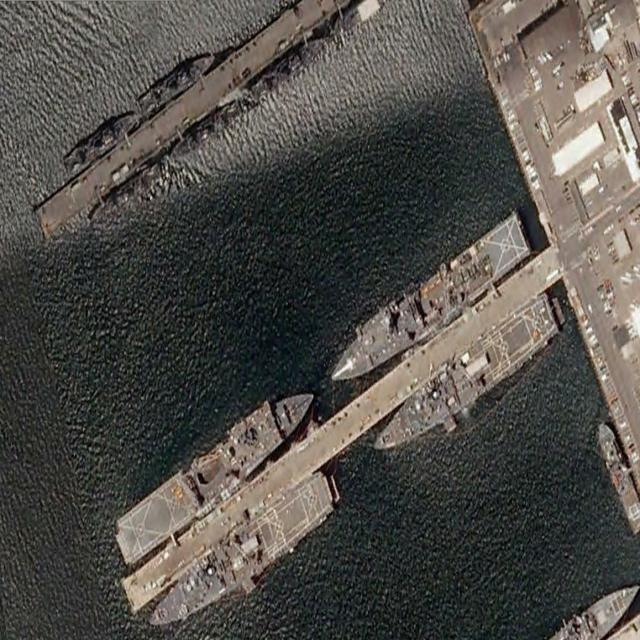Destroyer: (109, 370, 322, 571), (322, 204, 533, 404)
Landing: (366, 287, 562, 478), (143, 460, 338, 640)
